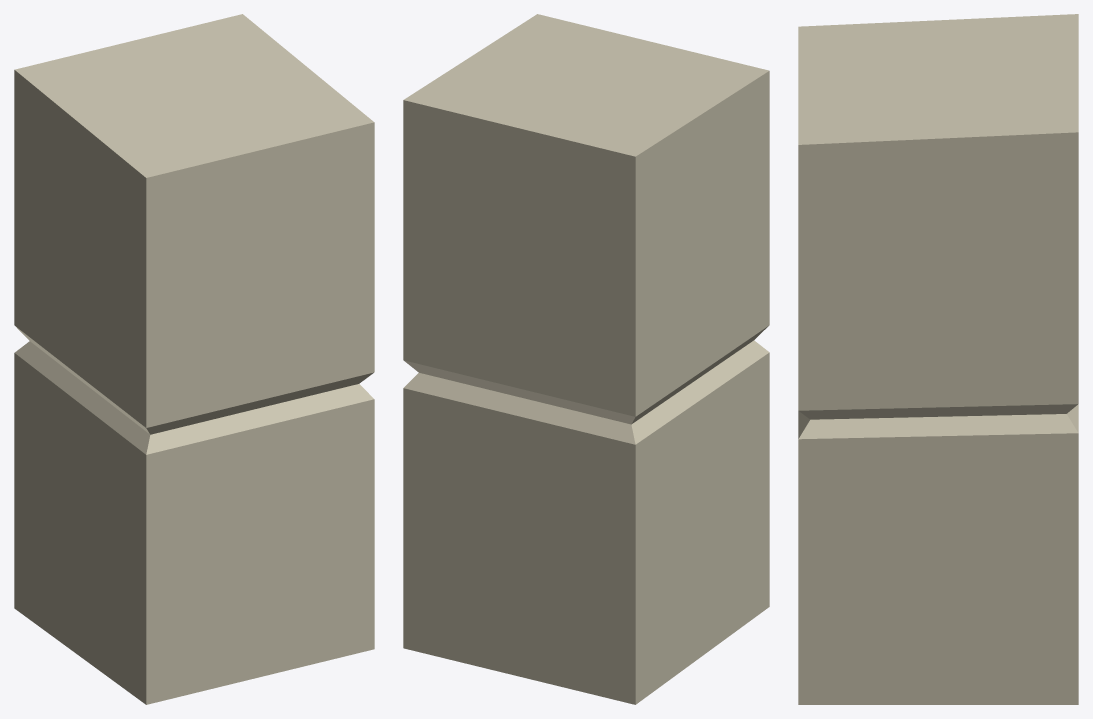
The model's file is Rock_Square_m_16.fbx.
3 renders of one model, left to right at view 1: azimuth 30°, elevation 25°; view 2: azimuth 150°, elevation 25°; view 3: azimuth 270°, elevation 25°, orthographic. The views are drawn at different scales.
Parts seen in each view (by area): view 1: Rock_Square_m_16; view 2: Rock_Square_m_16; view 3: Rock_Square_m_16.
Boxes of the visible parts, box(x1,y1,x2,y2) form: Rock_Square_m_16: box(14, 14, 374, 704); Rock_Square_m_16: box(403, 14, 769, 704); Rock_Square_m_16: box(798, 14, 1078, 704).
Size of the model in its own units: 43.2 by 97.45 by 43.2.
